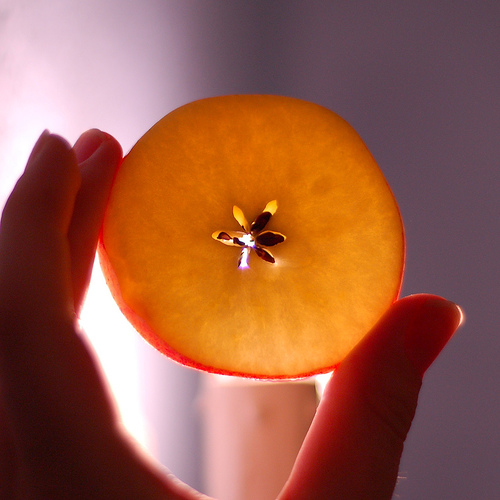apple: (96, 91, 405, 377)
